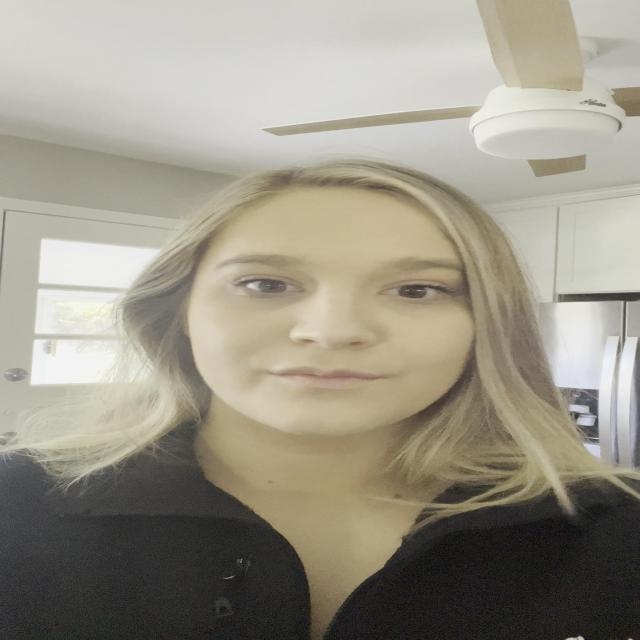no-helmet: (167, 182, 514, 463)
